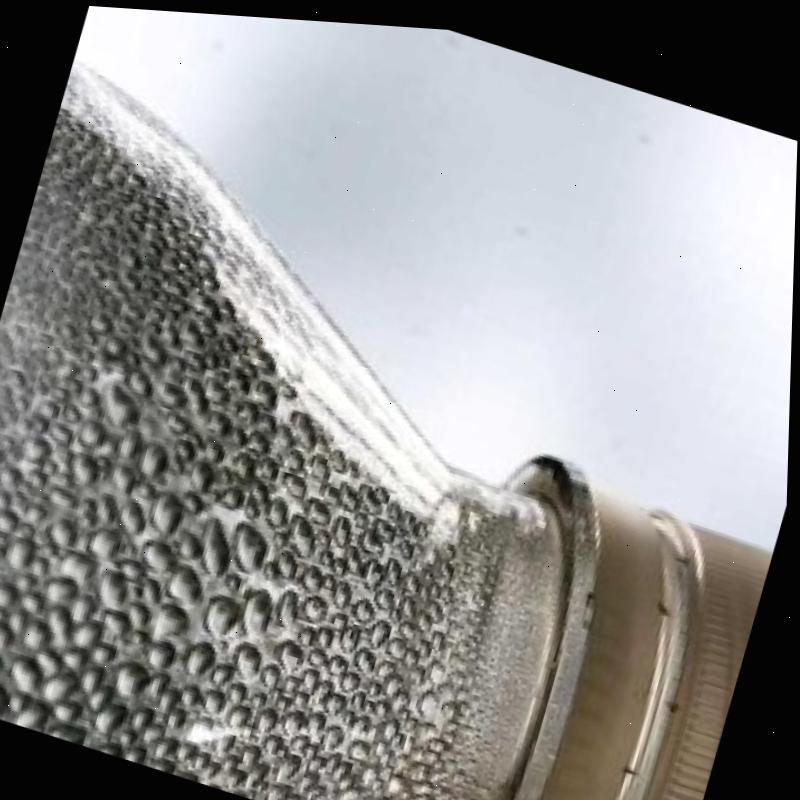botella: (0, 55, 799, 800)
